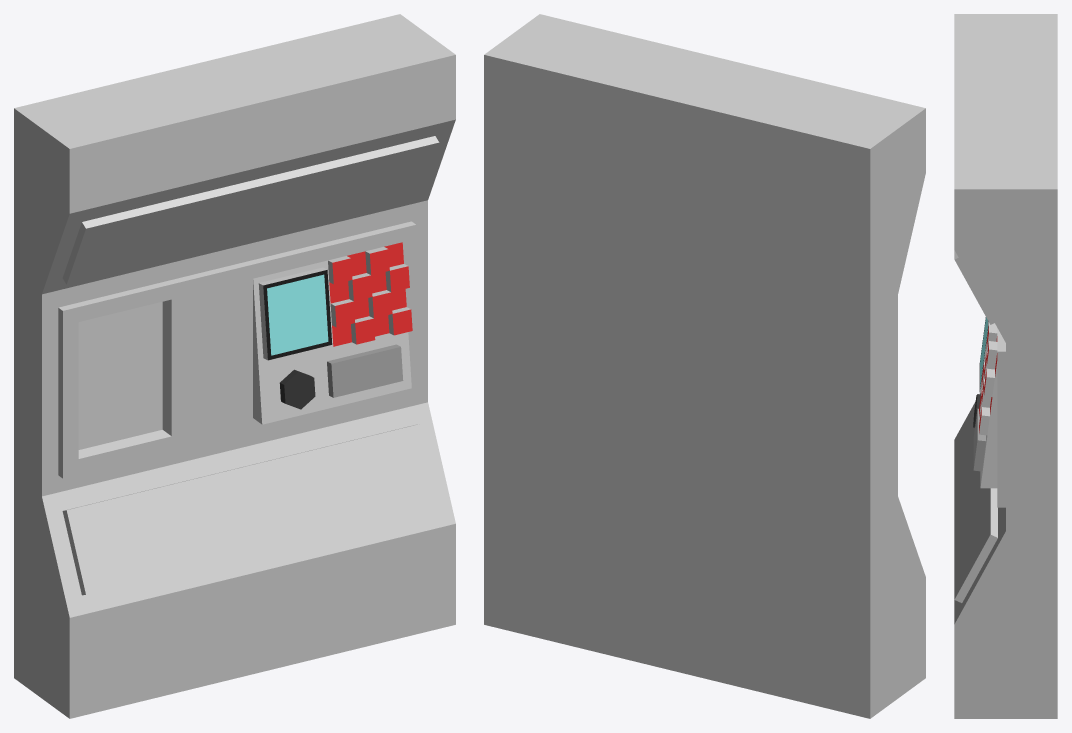
Rendered from SciFi_Wall_Panel_Console_White_01.fbx.
3 renders of one model, left to right at view 1: azimuth 30°, elevation 25°; view 2: azimuth 150°, elevation 25°; view 3: azimuth 270°, elevation 25°, orthographic. The views are drawn at different scales.
Visible parts, largest first — view 1: Model; view 2: Model; view 3: Model.
Part boxes in pixels (x1,y1,x2,y2): Model: (14,14,455,718); Model: (484,14,925,718); Model: (954,14,1057,718).
Size of the model in its own units: 1000 by 1410 by 250.
